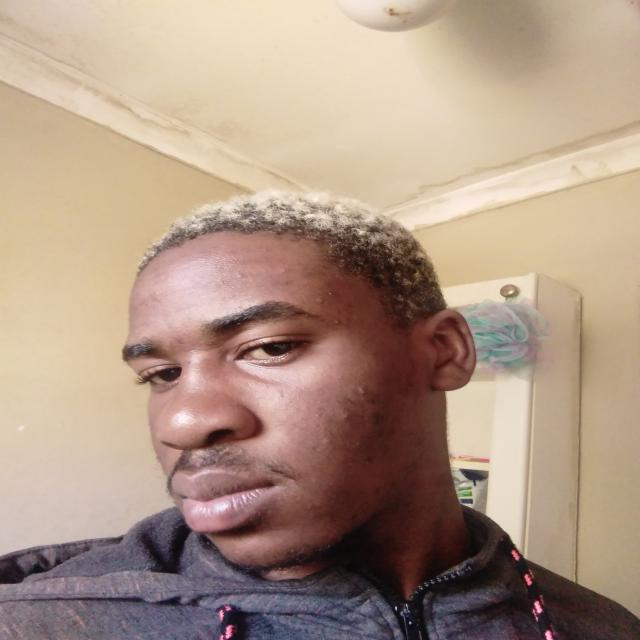Acne: (356, 386, 370, 396), (340, 412, 352, 422), (331, 318, 343, 327), (309, 475, 321, 483), (279, 266, 289, 274), (234, 272, 245, 279), (193, 255, 203, 262), (316, 297, 324, 305), (152, 290, 158, 300), (353, 441, 363, 447), (346, 300, 354, 307), (259, 248, 268, 254), (156, 275, 164, 280)
Englarged-Pores: (274, 388, 332, 430)
Wrinkles: (183, 347, 213, 354), (173, 305, 195, 312)
